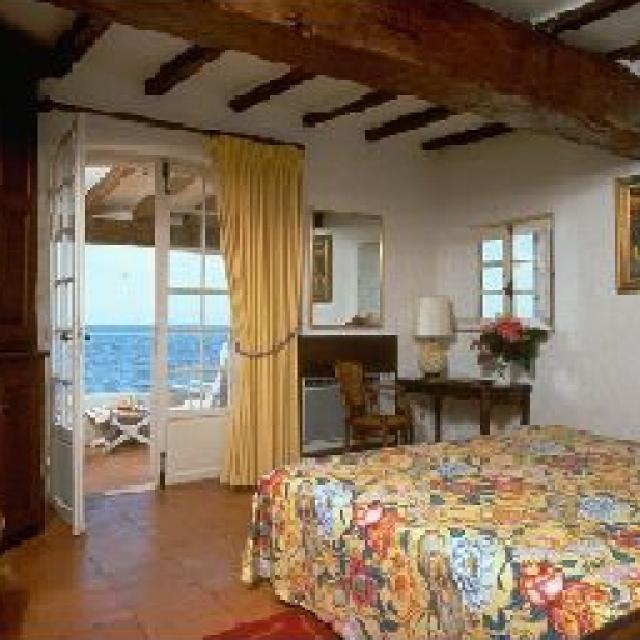2001: (432, 212, 545, 325)
bed -occluded-: (238, 418, 632, 635)
bouquet: (462, 312, 540, 380)
chair -occluded-: (332, 358, 405, 442)
curtain crop: (200, 130, 300, 478)
door bars: (148, 155, 230, 485), (42, 110, 80, 528)
lamp crop: (408, 295, 448, 370)
mirror crop: (305, 205, 378, 322)
painting crop: (610, 172, 635, 292)
small table part: (392, 375, 528, 440), (82, 405, 145, 448)
wardrobe part: (0, 18, 48, 550)
